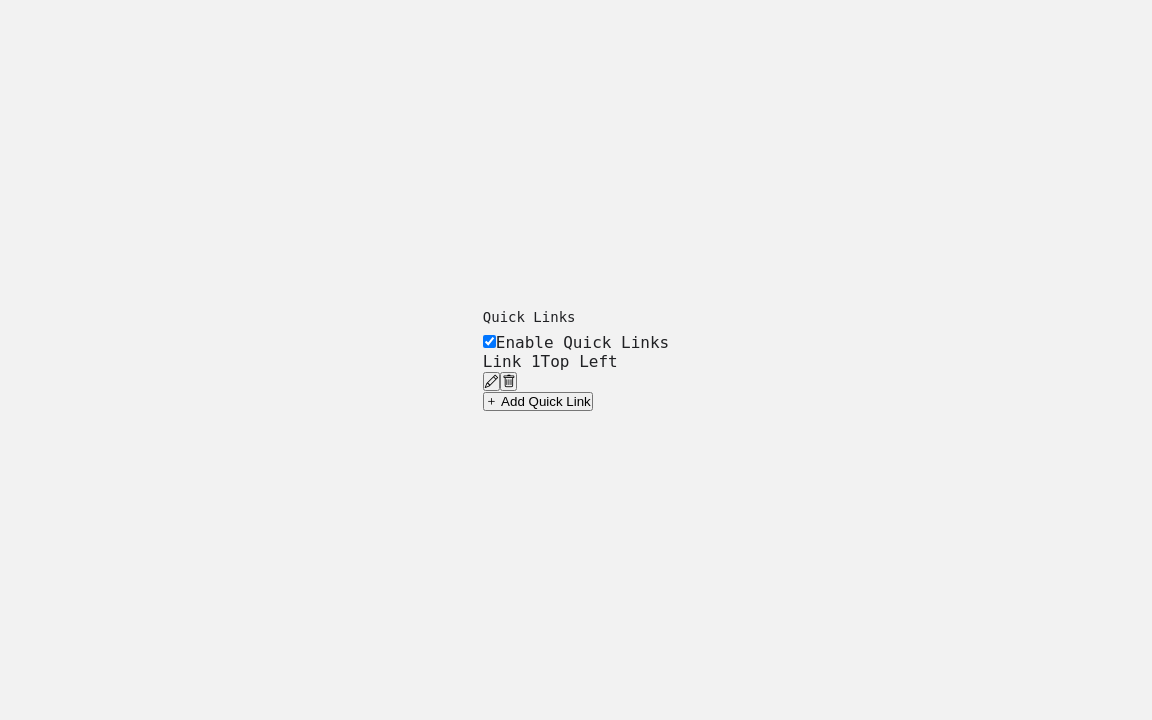
Test case: QuickLinksSection › the address field › lets the user repair a link that already has a bad address
Later steps or results of the test are not shown.
Click the button named "Edit Link 1": (491, 382) [483,372,500,391]
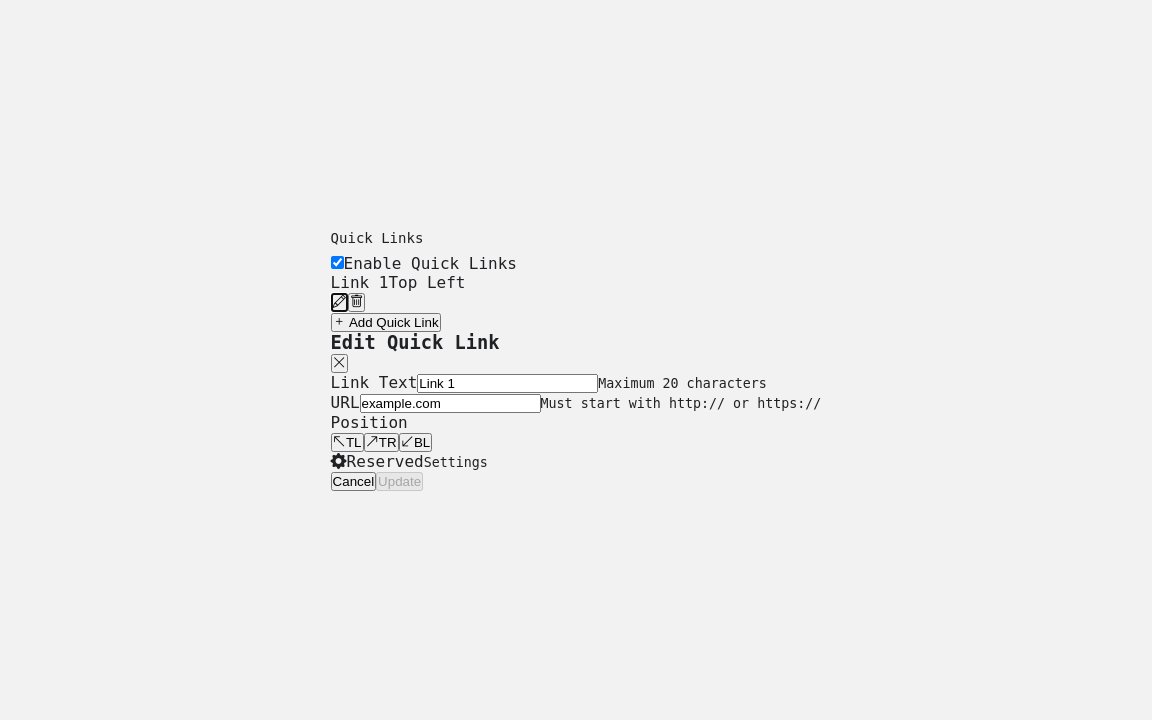
Check: the button "Update" is disabled, box [376,472,423,490]
Click the field labelled "URL": (450, 403) [360,394,540,412]
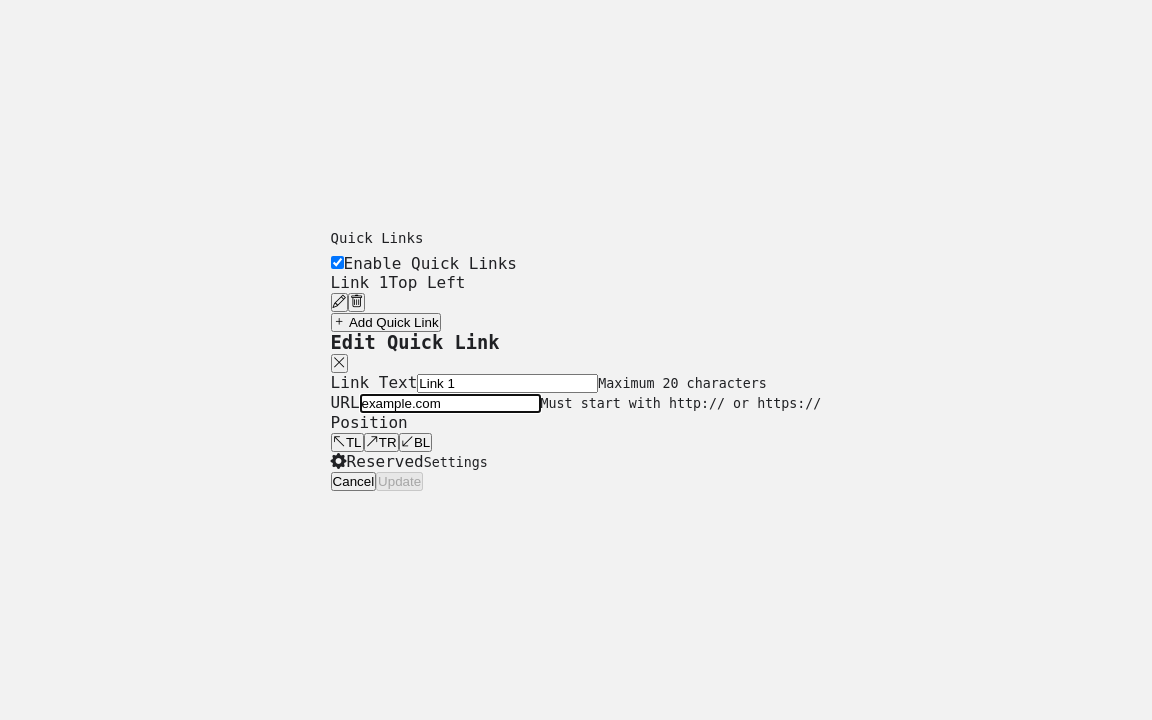
Press Tab
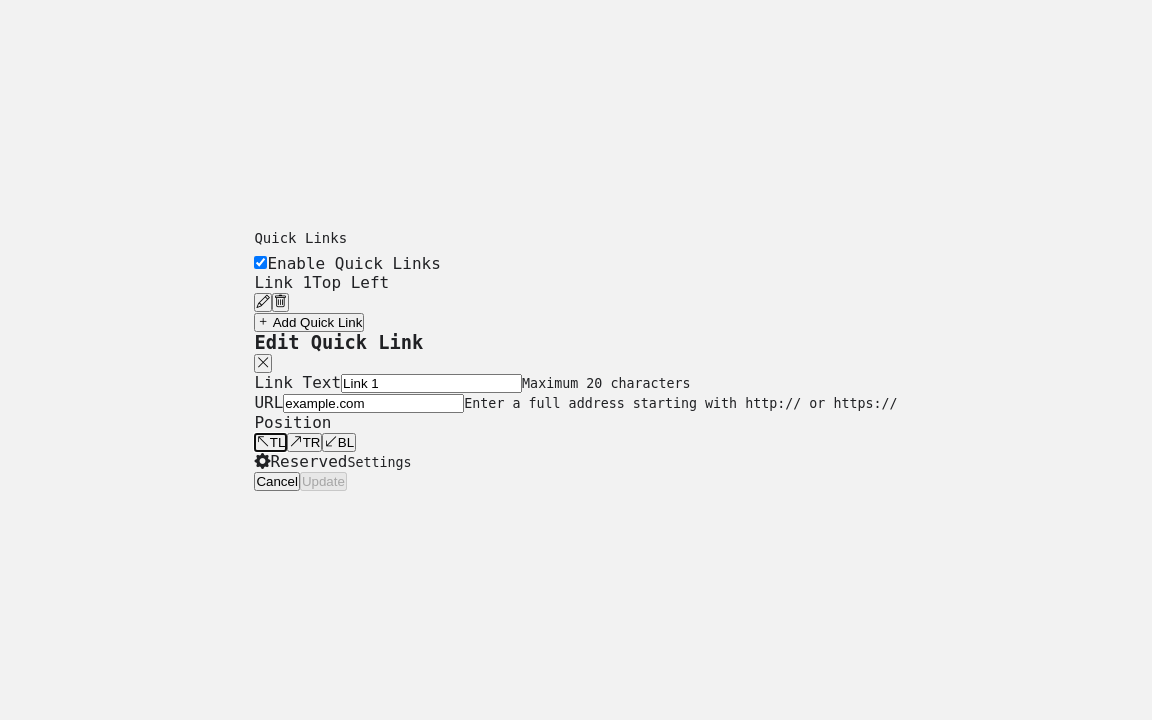
Check: the text "Enter a full address starting with http:// or https://" is shown, box [464,396,898,410]
